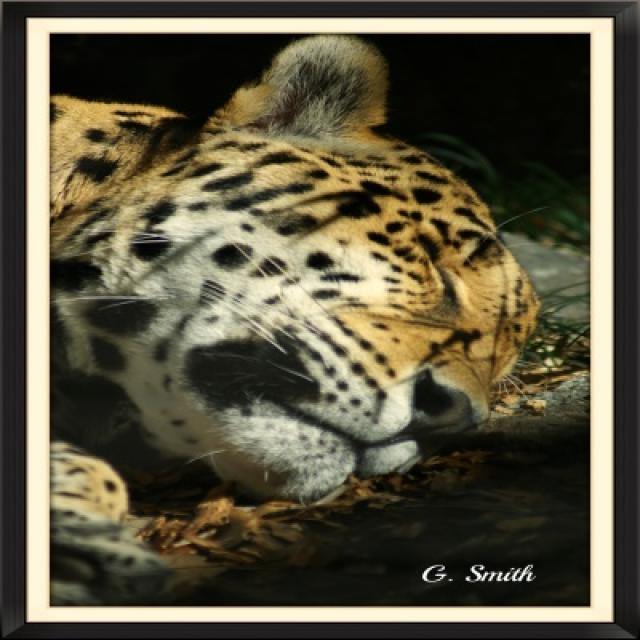Jaguar: (51, 35, 541, 520)
